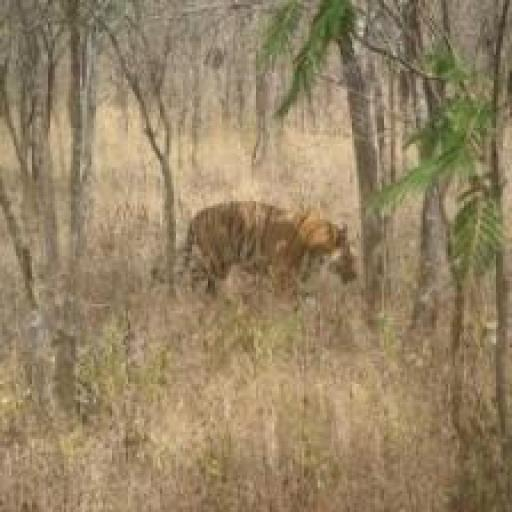Tiger: (137, 196, 368, 308)
